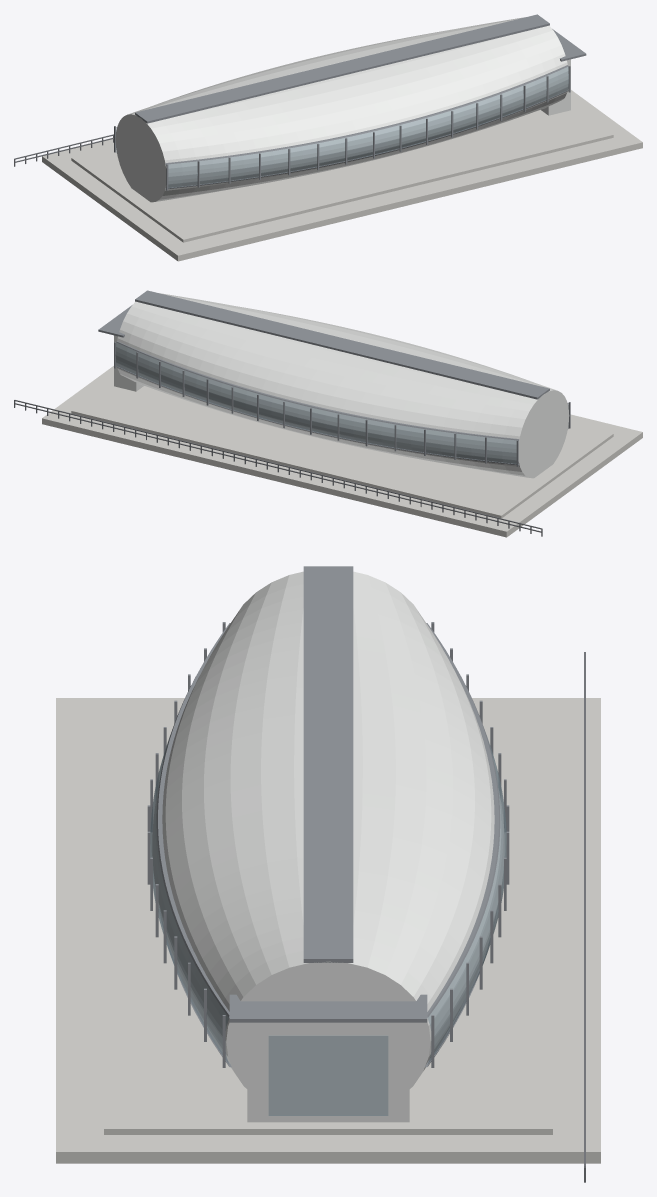
The model's file is LANDMARK_CAPSULE_CENTER.glb.
3 views of the same model, one above another, from view 1: azimuth 30°, elevation 25°; view 2: azimuth 150°, elevation 25°; view 3: azimuth 270°, elevation 25° (orthographic). The views are drawn at different scales.
Parts seen in each view (by area): view 1: CAPSULE_CENTER_Shell, CAPSULE_CENTER_Platform, CAPSULE_CENTER_Glass, CAPSULE_CENTER_GlassFrame, CAPSULE_CENTER_Portal, CAPSULE_CENTER_PortalAwning; view 2: CAPSULE_CENTER_Shell, CAPSULE_CENTER_Platform, CAPSULE_CENTER_Glass, CAPSULE_CENTER_GlassFrame, Capsule_Rail_Rail_102, Capsule_Rail_Rail_57, CAPSULE_CENTER_PortalAwning, CAPSULE_CENTER_Portal; view 3: CAPSULE_CENTER_Platform, CAPSULE_CENTER_Shell, CAPSULE_CENTER_GlassFrame, CAPSULE_CENTER_Portal, CAPSULE_CENTER_PortalGlass, CAPSULE_CENTER_Glass, CAPSULE_CENTER_PortalAwning, Capsule_Rail_Rail_102.
Boxes of the visible parts, bbox=[...] form: CAPSULE_CENTER_Shell: bbox=[115, 17, 568, 202]; CAPSULE_CENTER_Platform: bbox=[42, 90, 642, 261]; CAPSULE_CENTER_Glass: bbox=[115, 67, 568, 187]; CAPSULE_CENTER_GlassFrame: bbox=[114, 14, 570, 190]; CAPSULE_CENTER_Portal: bbox=[541, 59, 570, 115]; CAPSULE_CENTER_PortalAwning: bbox=[552, 29, 586, 61]; CAPSULE_CENTER_Shell: bbox=[116, 293, 569, 478]; CAPSULE_CENTER_Platform: bbox=[42, 366, 642, 537]; CAPSULE_CENTER_Glass: bbox=[115, 343, 569, 464]; CAPSULE_CENTER_GlassFrame: bbox=[114, 290, 570, 466]; Capsule_Rail_Rail_102: bbox=[14, 400, 541, 529]; Capsule_Rail_Rail_57: bbox=[14, 403, 541, 532]; CAPSULE_CENTER_PortalAwning: bbox=[98, 305, 132, 337]; CAPSULE_CENTER_Portal: bbox=[114, 335, 143, 391]; CAPSULE_CENTER_Platform: bbox=[56, 698, 600, 1163]; CAPSULE_CENTER_Shell: bbox=[152, 571, 504, 1088]; CAPSULE_CENTER_GlassFrame: bbox=[147, 566, 509, 1067]; CAPSULE_CENTER_Portal: bbox=[247, 1022, 409, 1122]; CAPSULE_CENTER_PortalGlass: bbox=[268, 1035, 388, 1115]; CAPSULE_CENTER_Glass: bbox=[150, 732, 506, 1064]; CAPSULE_CENTER_PortalAwning: bbox=[229, 994, 427, 1022]; Capsule_Rail_Rail_102: bbox=[584, 652, 585, 1166].
Size of the model in its own units: 76.12 by 11.98 by 34.
